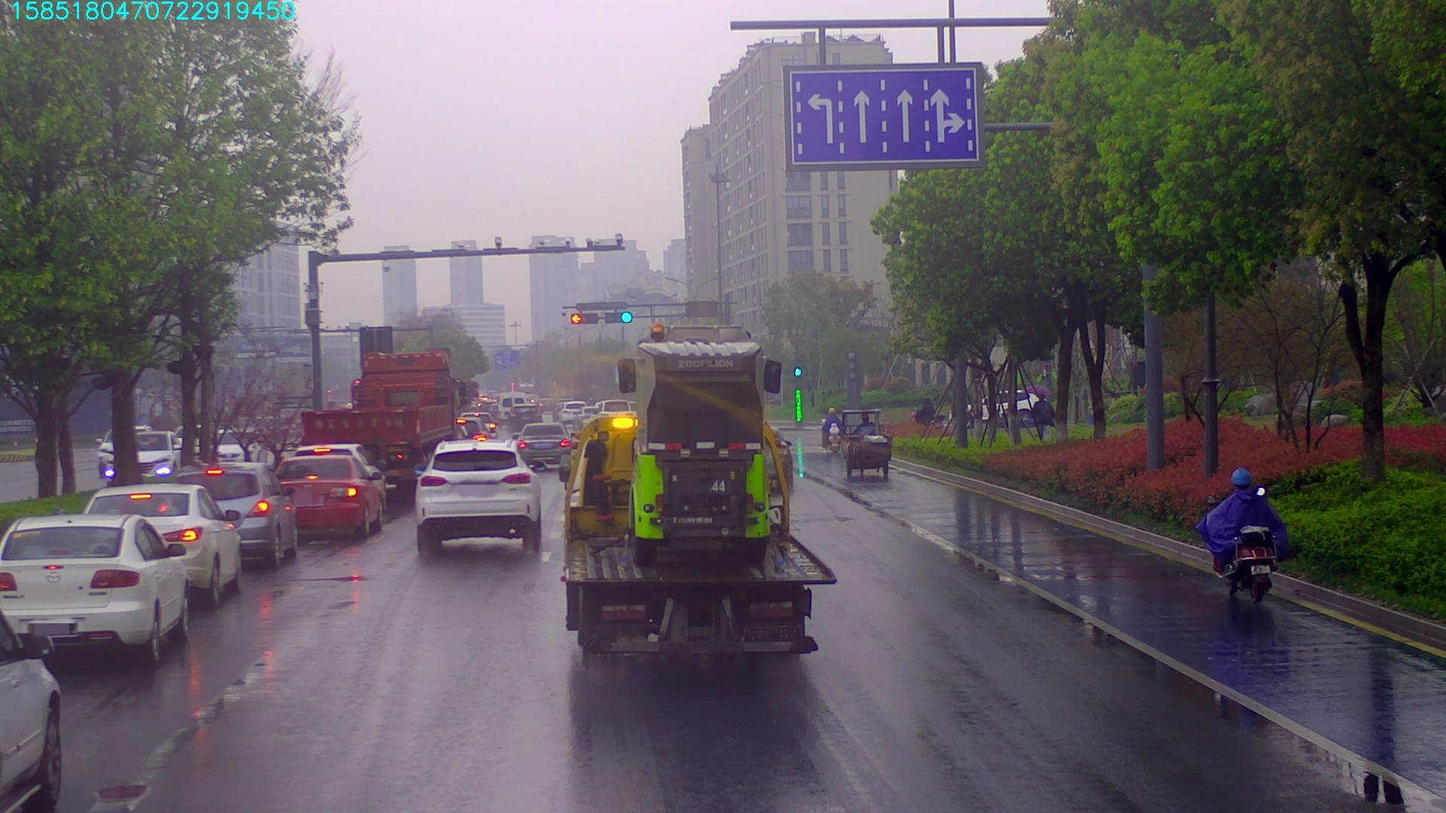green: (607, 310, 636, 326)
red: (567, 309, 602, 327)
